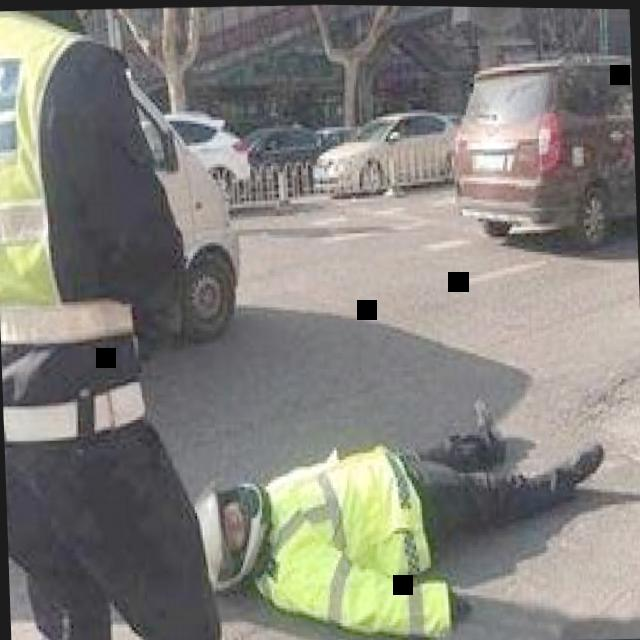Fall-Detected: (194, 371, 611, 640)
